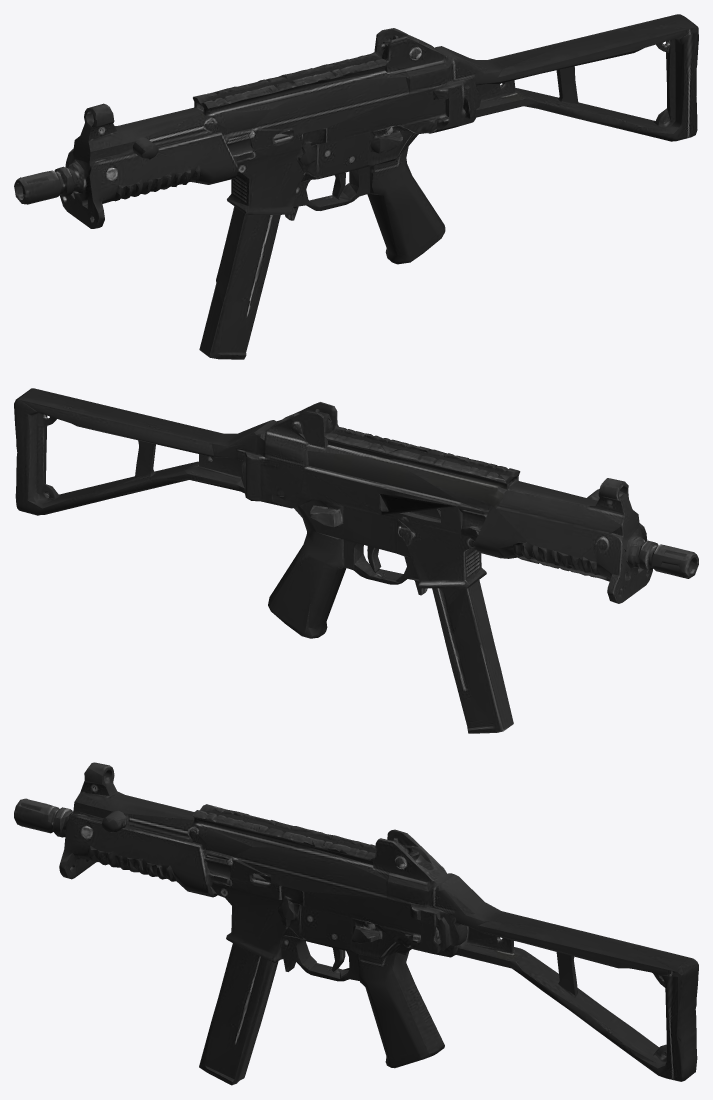
The model's file is w-smg.glb.
The picture shows the model from 3 angles, top to bottom: view 1: azimuth 30°, elevation 25°; view 2: azimuth 150°, elevation 25°; view 3: azimuth 330°, elevation 25°; orthographic projection.
Size of the model in its own units: 1.9 by 0.7662 by 0.2095.
1 material, 1 textured.
